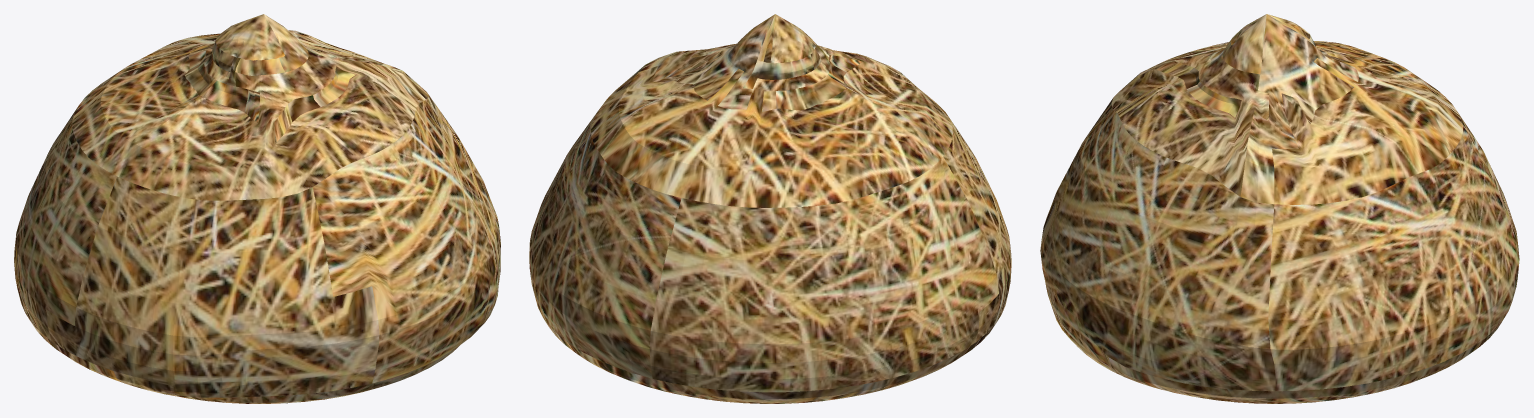
Rendered from Hay.fbx.
3 views of the same model, side by side, from view 1: azimuth 30°, elevation 25°; view 2: azimuth 150°, elevation 25°; view 3: azimuth 270°, elevation 25° (orthographic).
Parts seen in each view (by area): view 1: Sphere; view 2: Sphere; view 3: Sphere.
Boxes of the visible parts, x1=… form: Sphere: x1=14, y1=14, x2=500, y2=403; Sphere: x1=529, y1=14, x2=1011, y2=403; Sphere: x1=1040, y1=14, x2=1519, y2=403.
Bounding box in the file's own units: 831 × 627 × 814.
Materials: 1 (1 with a texture image).
